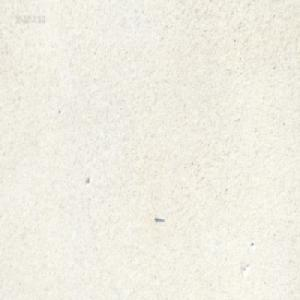Nail: (154, 215, 165, 223)
